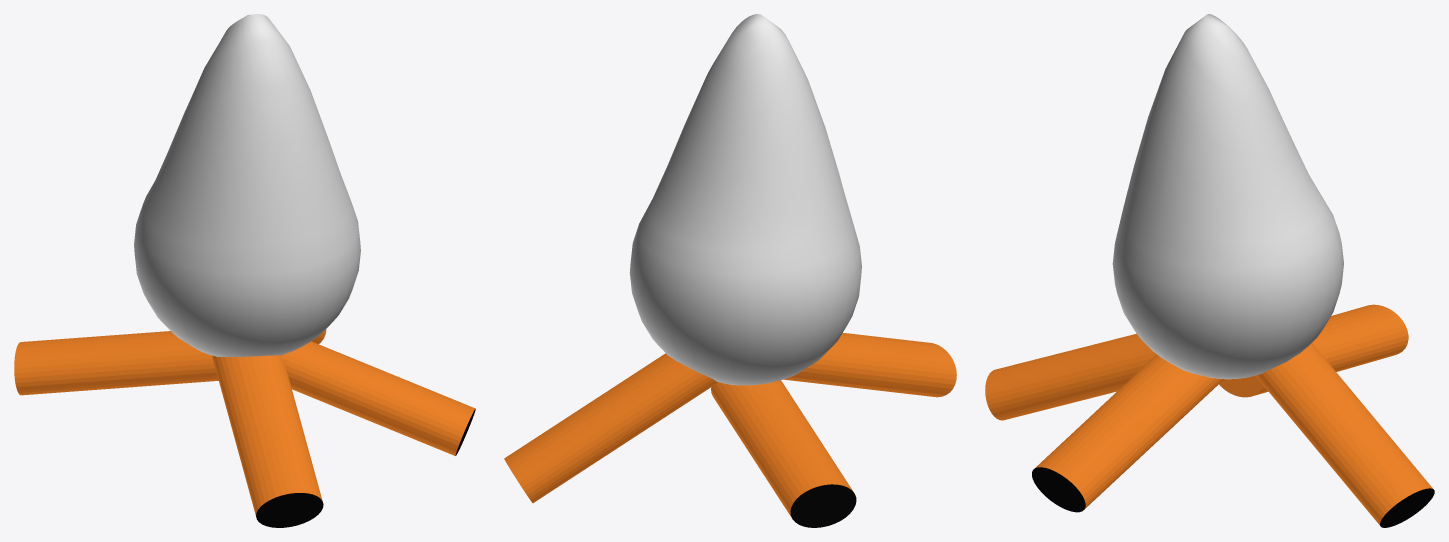
File: fireCamp.fbx
3 views of the same model, side by side, from view 1: azimuth 30°, elevation 25°; view 2: azimuth 150°, elevation 25°; view 3: azimuth 270°, elevation 25° (orthographic). The views are drawn at different scales.
Visible parts, largest first — view 1: Sphere, Cylinder; view 2: Sphere, Cylinder; view 3: Sphere, Cylinder.
Part boxes in pixels (left/top/right/bottom): Sphere: left=134, top=14, right=360, bottom=356; Cylinder: left=14, top=329, right=475, bottom=527; Sphere: left=629, top=14, right=861, bottom=385; Cylinder: left=504, top=333, right=956, bottom=527; Sphere: left=1112, top=14, right=1343, bottom=379; Cylinder: left=985, top=304, right=1434, bottom=527.
Size of the model in its own units: 331 by 424 by 389.
